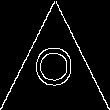O_W: (33, 52, 77, 95)
